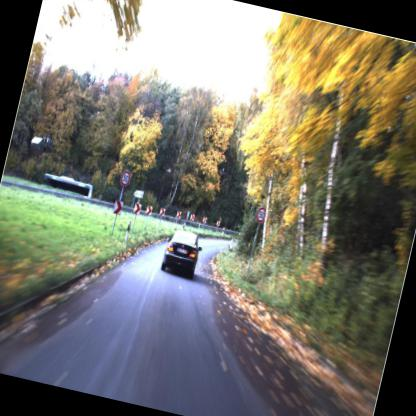prohibitory: (252, 204, 271, 228), (118, 168, 134, 190)
